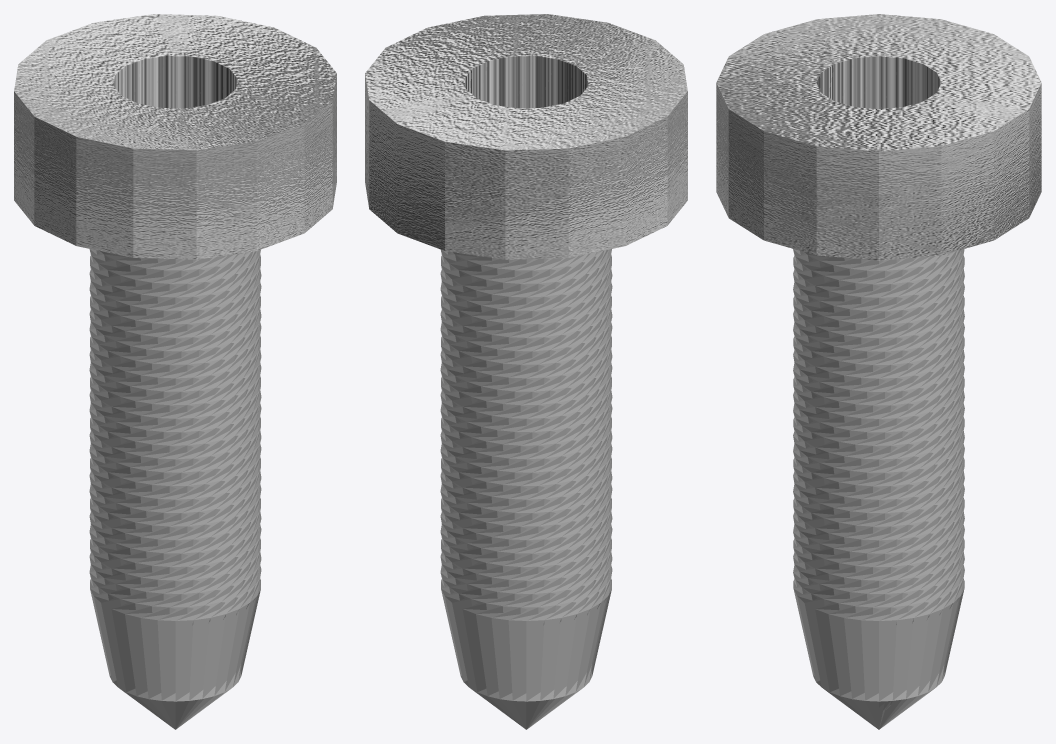
The model's file is ScrewCollectible.fbx.
3 views of the same model, side by side, from view 1: azimuth 30°, elevation 25°; view 2: azimuth 150°, elevation 25°; view 3: azimuth 270°, elevation 25° (orthographic).
Parts seen in each view (by area): view 1: Torus, Cylinder; view 2: Torus, Cylinder; view 3: Torus, Cylinder.
Boxes of the visible parts, left/top/right/bottom form: Torus: left=89, top=249, right=261, bottom=729; Cylinder: left=14, top=14, right=336, bottom=259; Torus: left=440, top=249, right=612, bottom=729; Cylinder: left=365, top=14, right=687, bottom=259; Torus: left=793, top=249, right=964, bottom=729; Cylinder: left=716, top=14, right=1041, bottom=260.
Size of the model in its own units: 54 by 119 by 54.
1 material, 1 textured.
